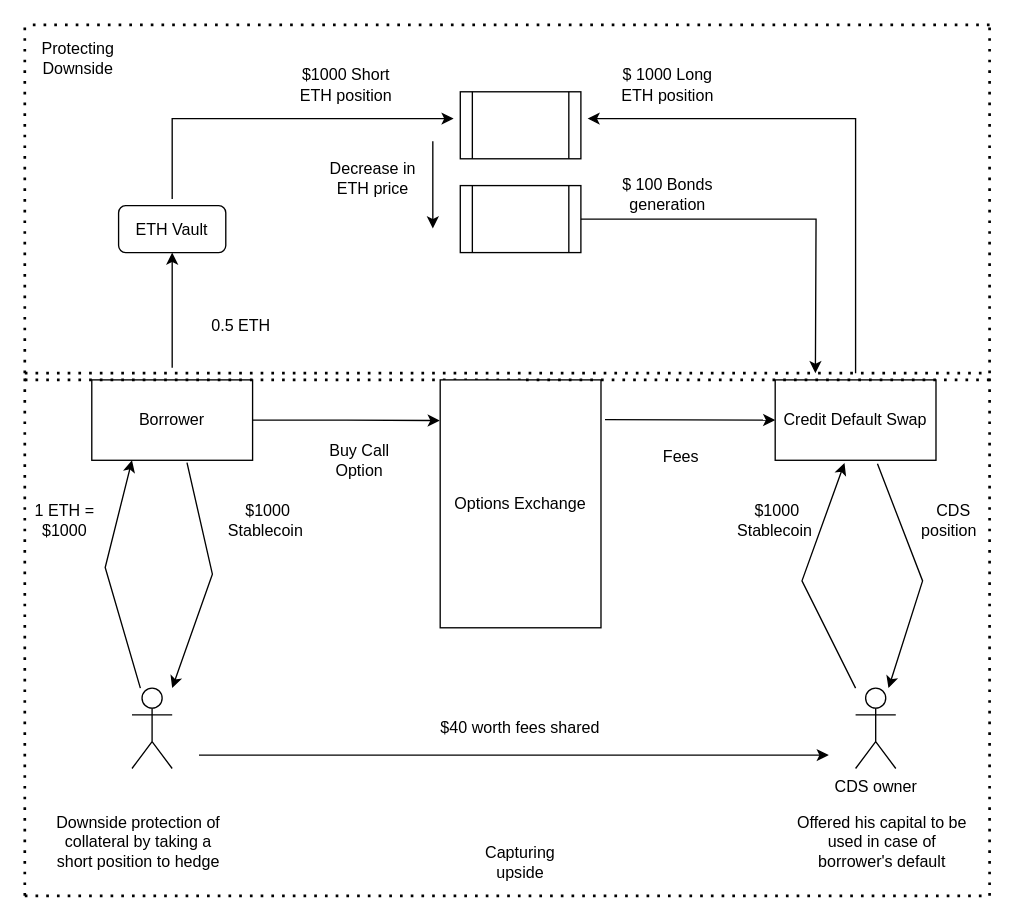
This 1014x921 diagram has some shape labels left out. The box of each missing label's shape, as (x1, y1, x2, y2) in pixels:
Borrower 1: (131, 687, 172, 768)
ETH/USD = $1000: (459, 90, 581, 159)
ETH/USD = $900: (459, 184, 581, 253)
